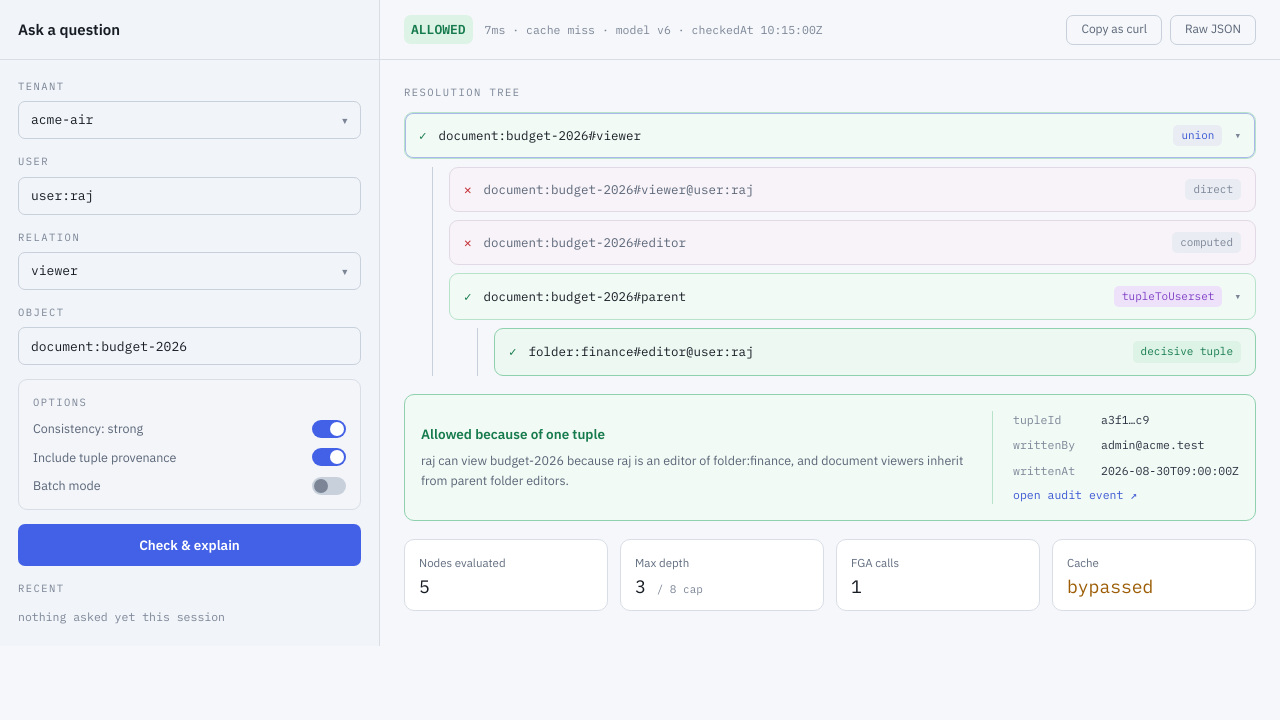
Test case: PlaygroundView › renders a problem inline when the BFF answers 404
Select "northwind-rail" in the dropdown labelled "Tenant" at (190, 120), box [18,101,361,139]
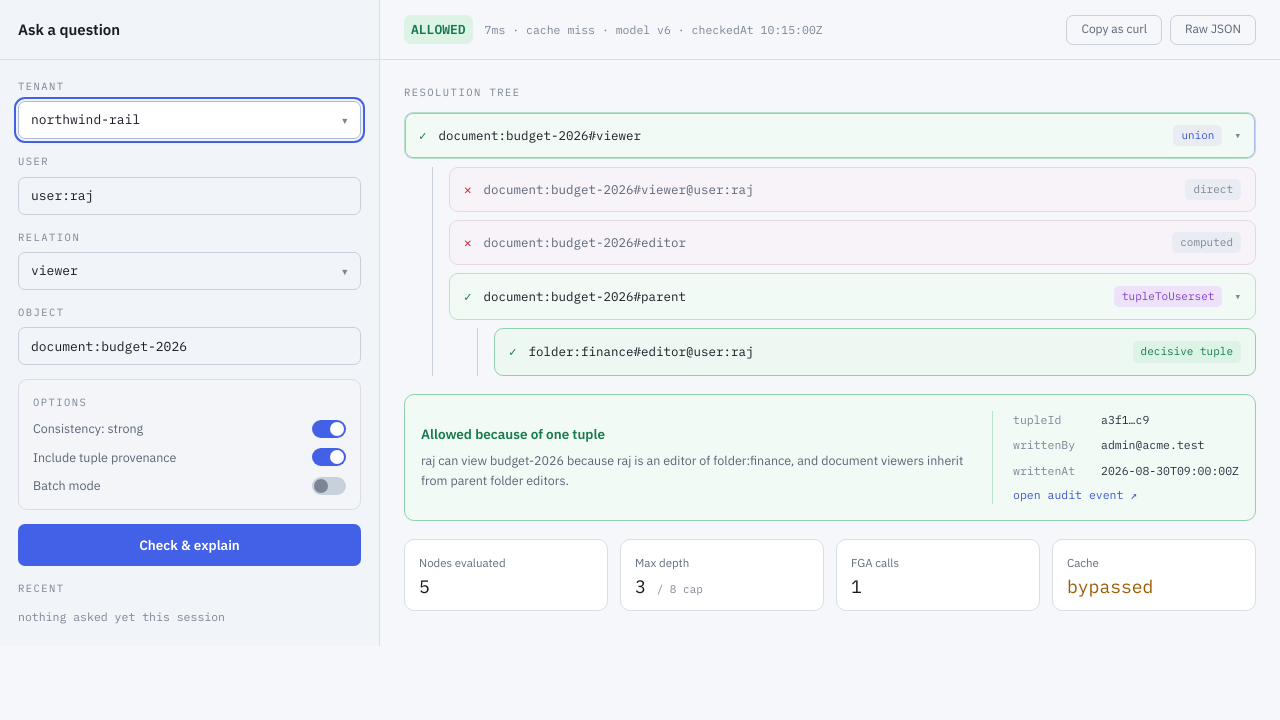
Click the button "Check & explain" at (190, 546), box [18,524,361,566]
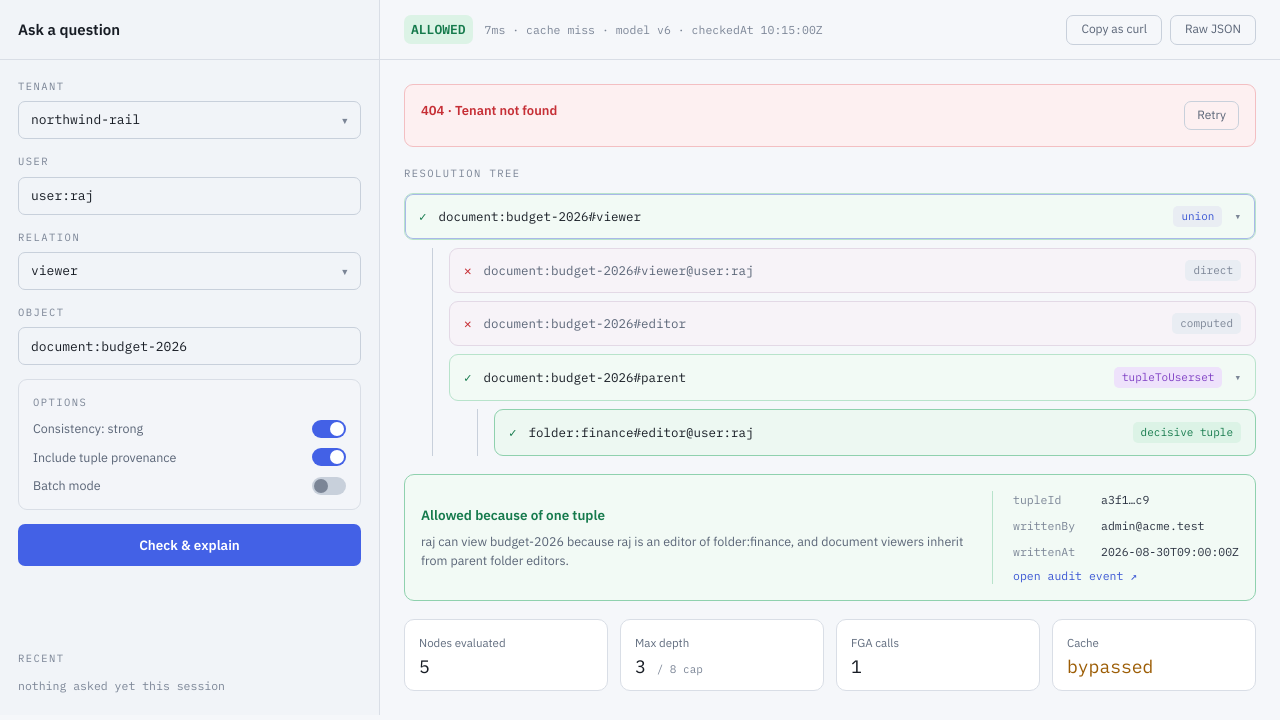
Check: the message shows "404 · Tenant not found", box [421,102,557,119]
